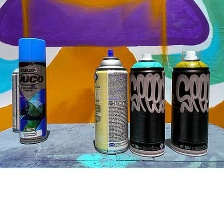aerosol_cans: (168, 47, 210, 160), (126, 51, 167, 159), (92, 45, 131, 155), (14, 35, 52, 145)
